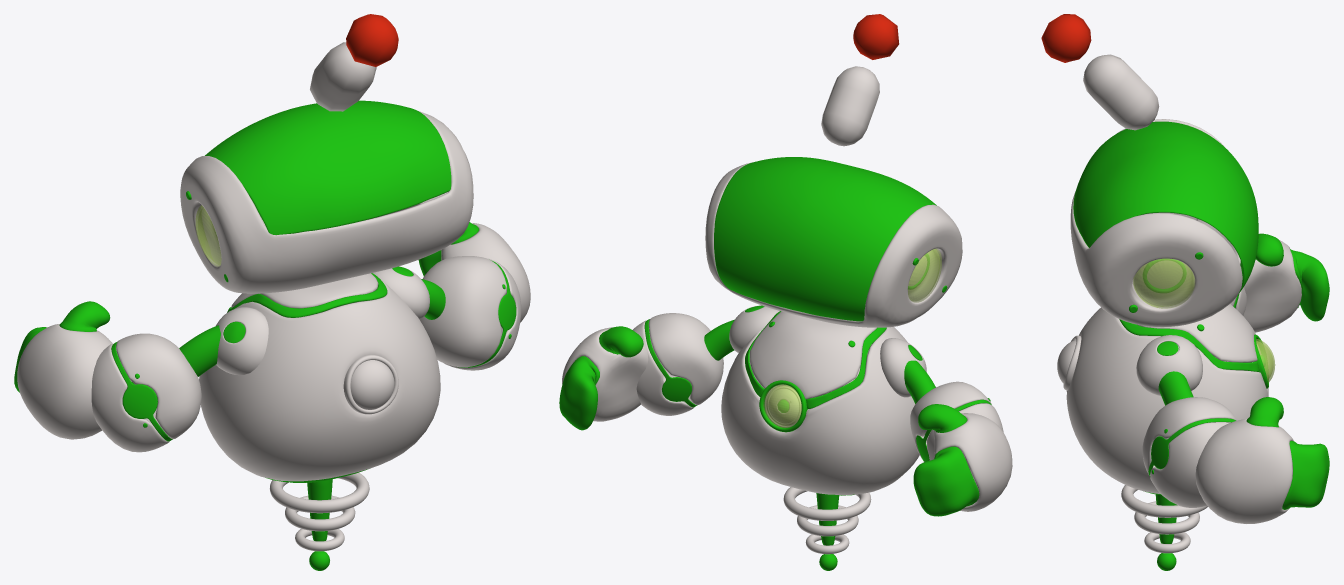
File: ZethFinal1.fbx
3 renders of one model, left to right at view 1: azimuth 30°, elevation 25°; view 2: azimuth 150°, elevation 25°; view 3: azimuth 270°, elevation 25°, orthographic. The views are drawn at different scales.
Parts seen in each view (by area): view 1: Group54290; view 2: Group54290; view 3: Group54290.
Boxes of the visible parts, box(x1,y1,x2,y2) form: Group54290: box(14, 14, 530, 570); Group54290: box(559, 14, 1012, 570); Group54290: box(1041, 14, 1329, 570).
Bounding box in the file's own units: 421 × 489 × 231.
